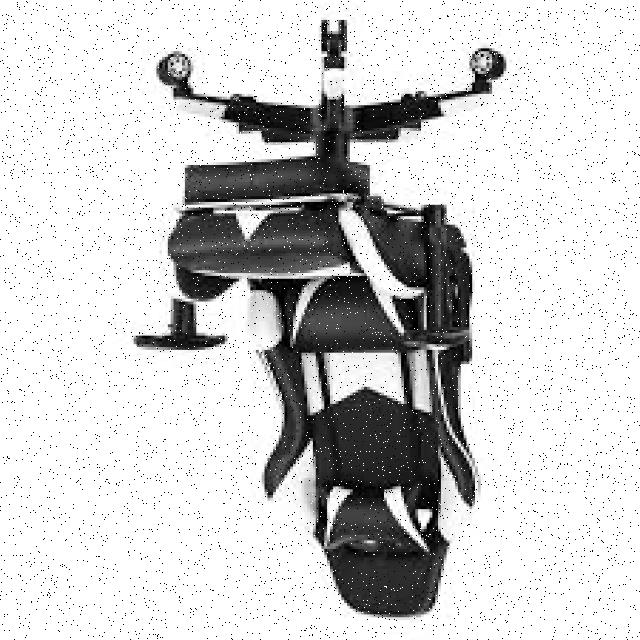bottle: (133, 20, 510, 615)
